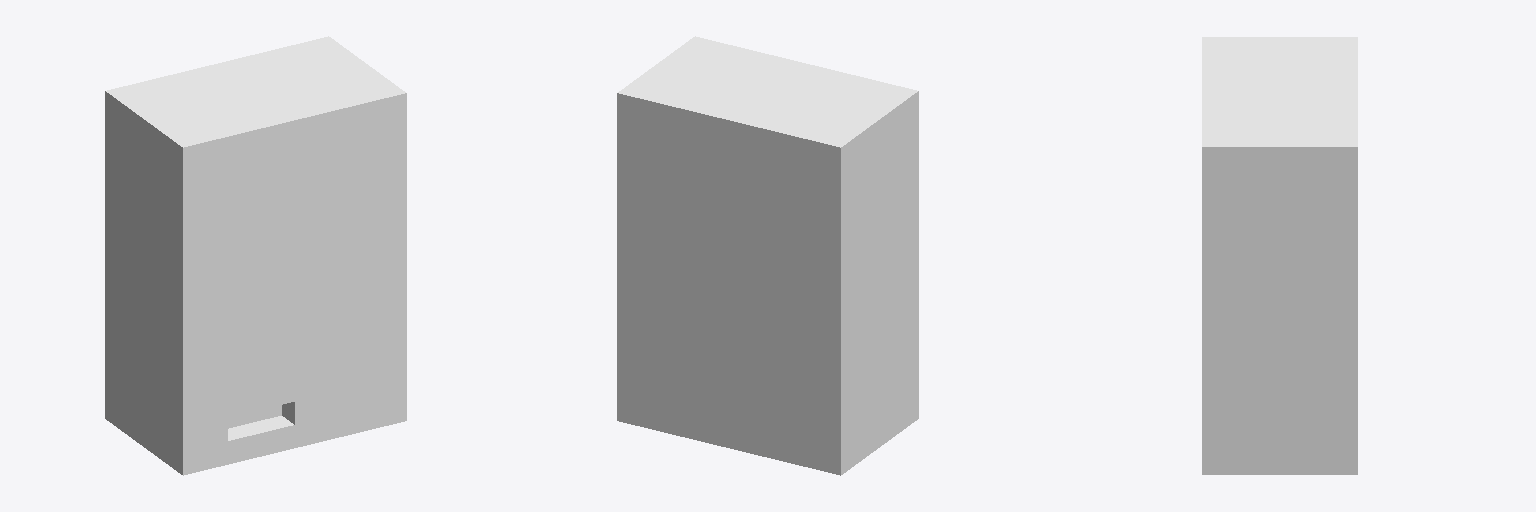
File: Kone.obj
3 views of the same model, side by side, from view 1: azimuth 30°, elevation 25°; view 2: azimuth 150°, elevation 25°; view 3: azimuth 270°, elevation 25° (orthographic).
Visible parts, largest first — view 1: Kone; view 2: Kone; view 3: Kone.
Part boxes in pixels (x1,y1,x2,y2): Kone: (105, 36, 406, 475); Kone: (617, 36, 918, 475); Kone: (1202, 37, 1357, 474).
Bounding box in the file's own units: 10 × 14 × 6.